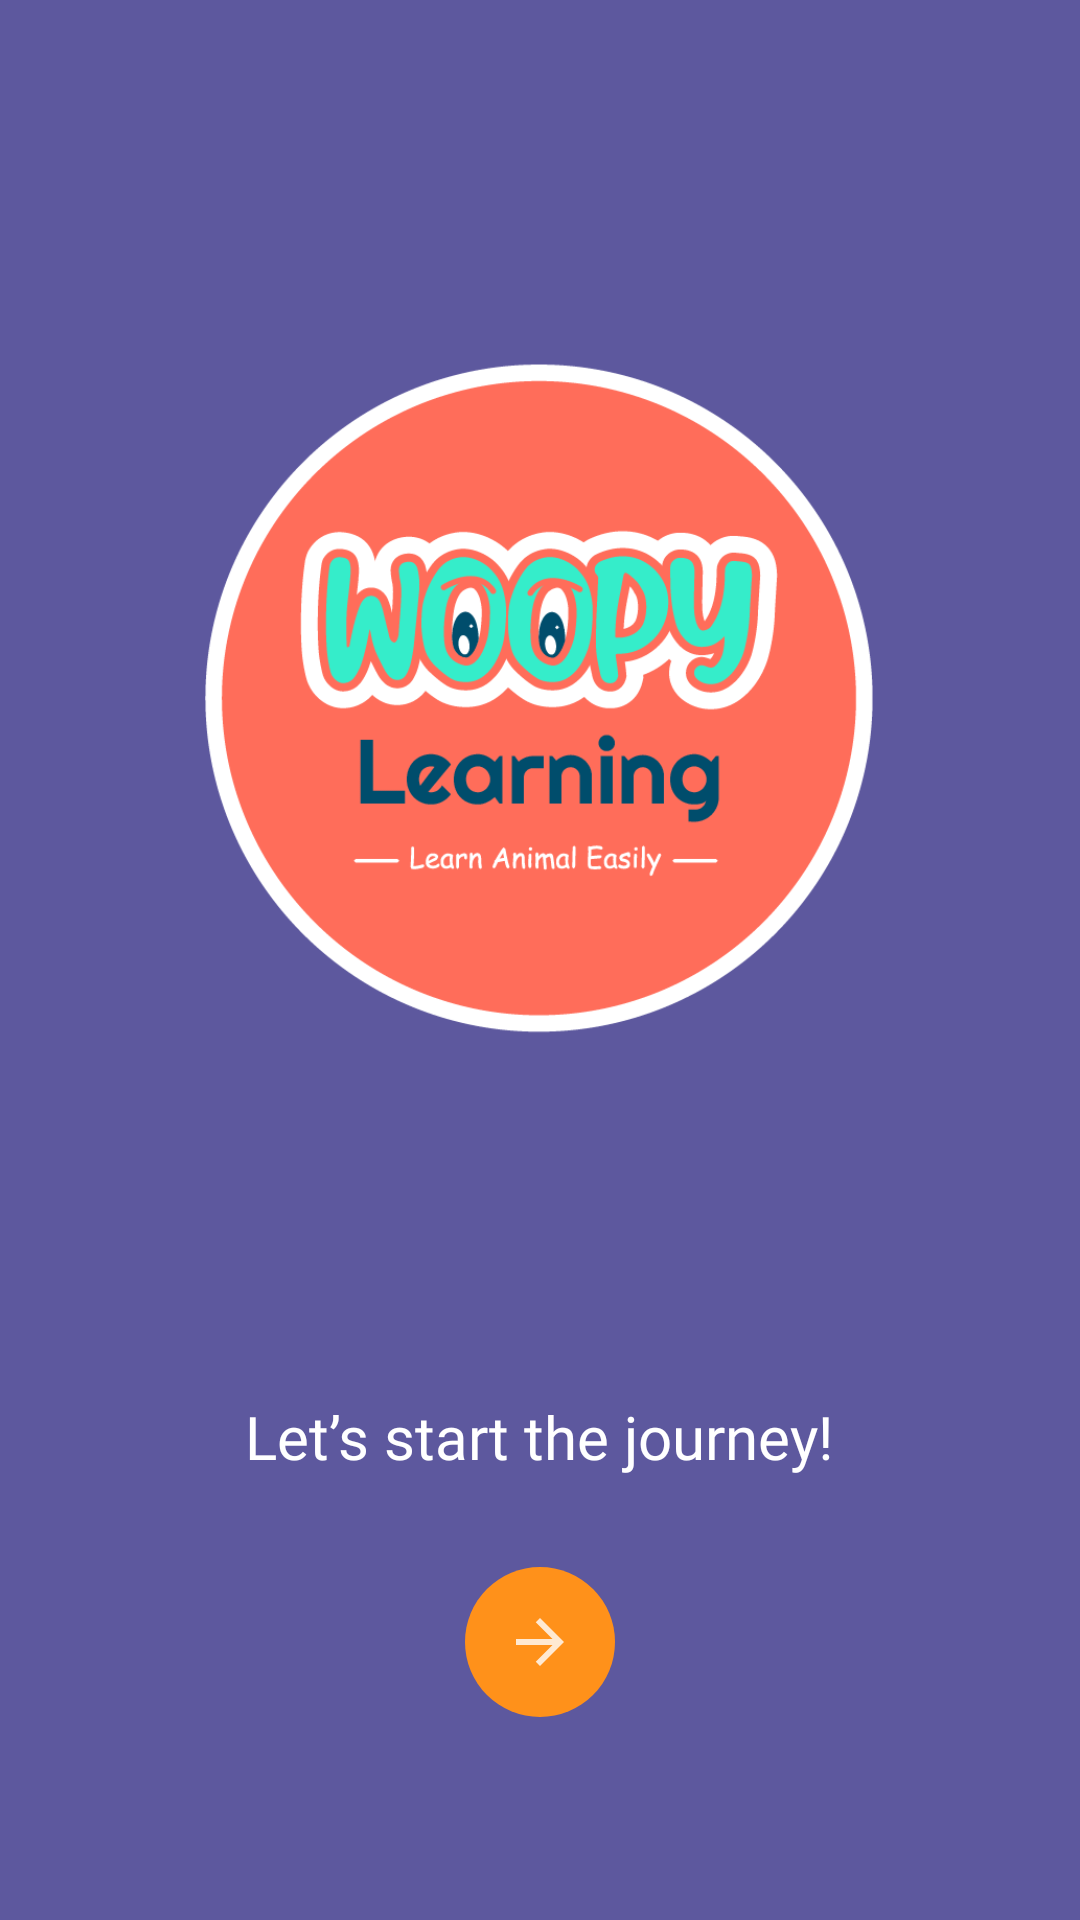

Icon bounding boxes for this 1080 x 1920 phone screenshot, format (x1, y1, x2, y2):
This is the image for icon arrow next: (516, 1618, 564, 1666)
